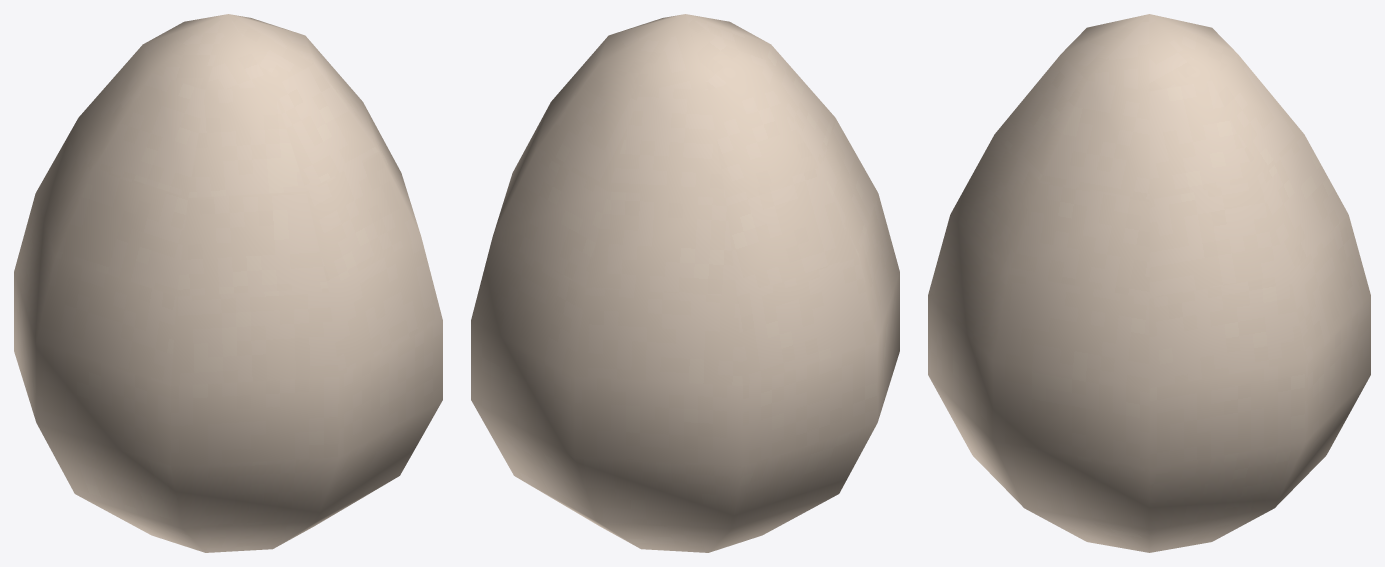
File: Egg.fbx
The picture shows the model from 3 angles, left to right: view 1: azimuth 30°, elevation 25°; view 2: azimuth 150°, elevation 25°; view 3: azimuth 270°, elevation 25°; orthographic projection.
Parts seen in each view (by area): view 1: Mesh; view 2: Mesh; view 3: Mesh.
Part boxes in pixels (x1,y1,x2,y2): Mesh: (14, 14, 442, 552); Mesh: (471, 14, 899, 552); Mesh: (928, 14, 1370, 552).
Size of the model in its own units: 0.05 by 0.065 by 0.05.
Materials: 1 (1 with a texture image).
